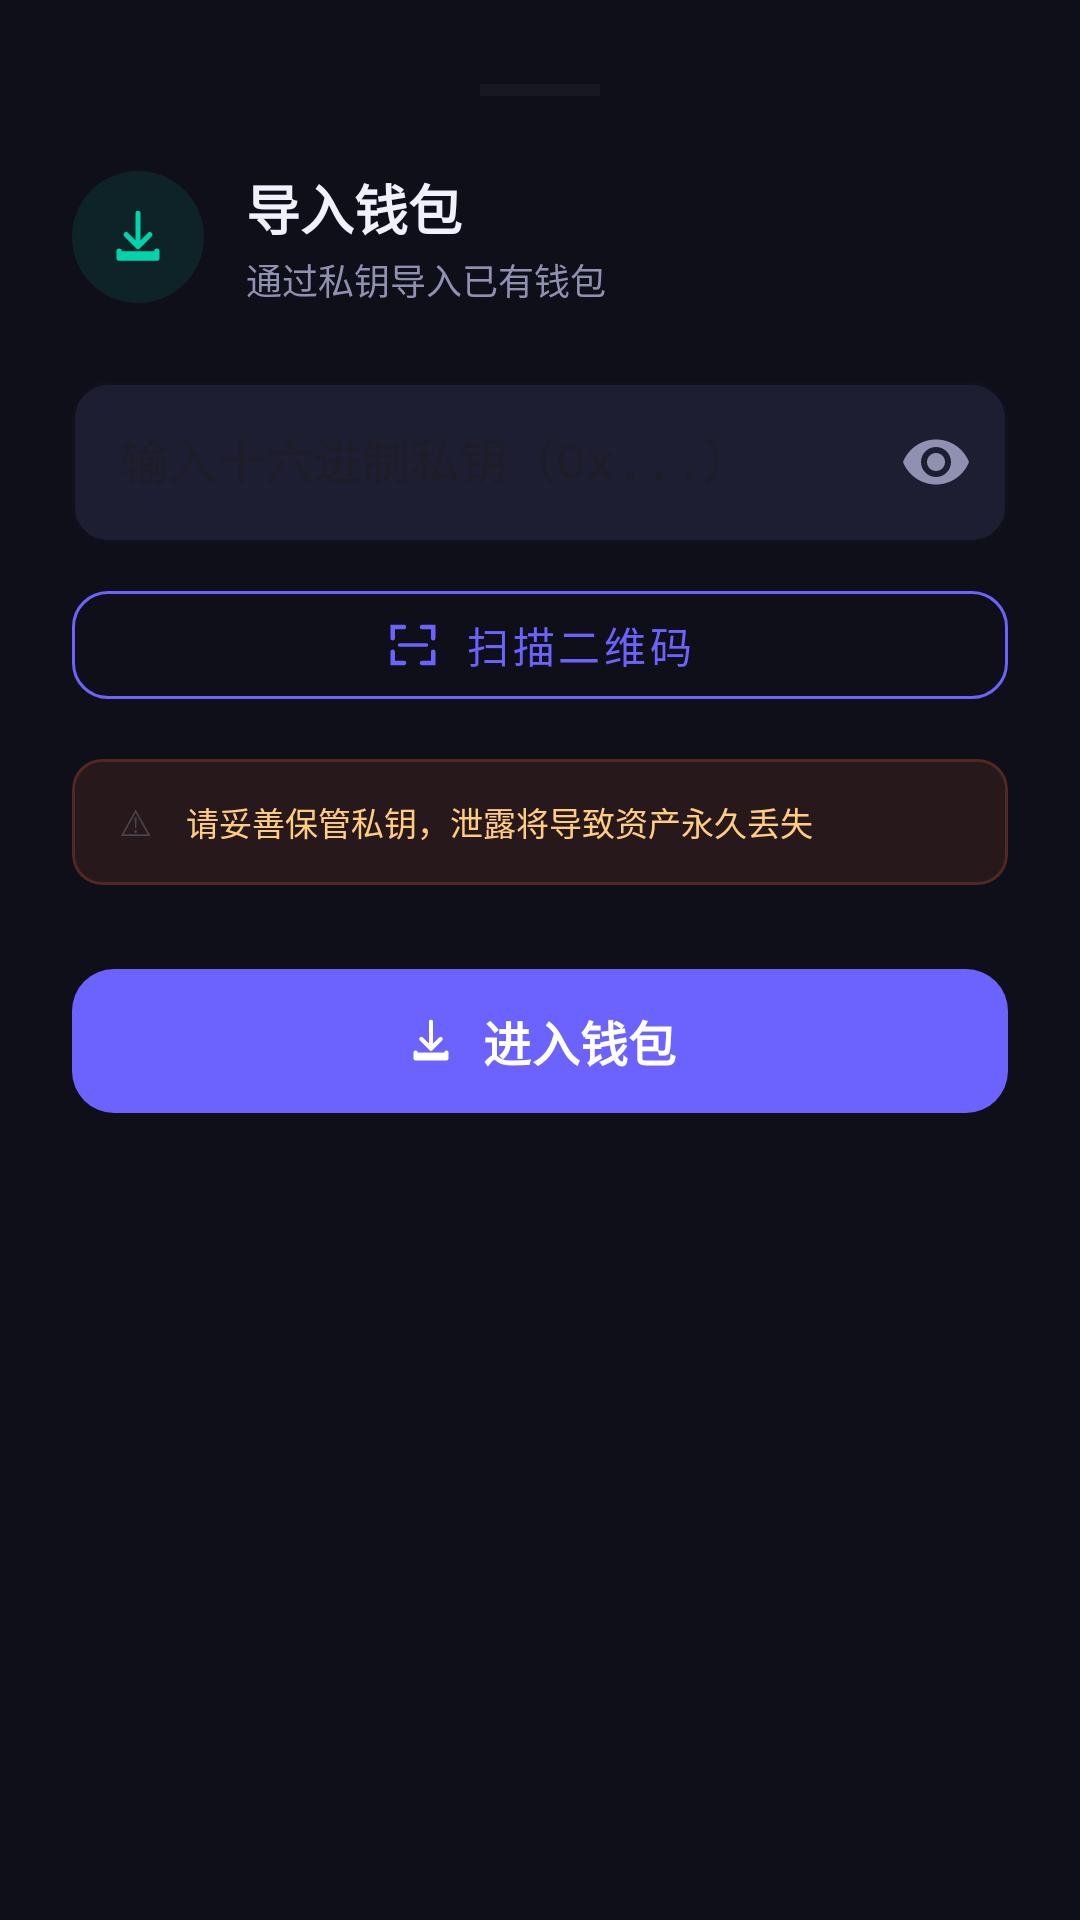

Where to tap for icons on this 1080*1920 app screen, as (x,y):
import wallet: (138,236)
